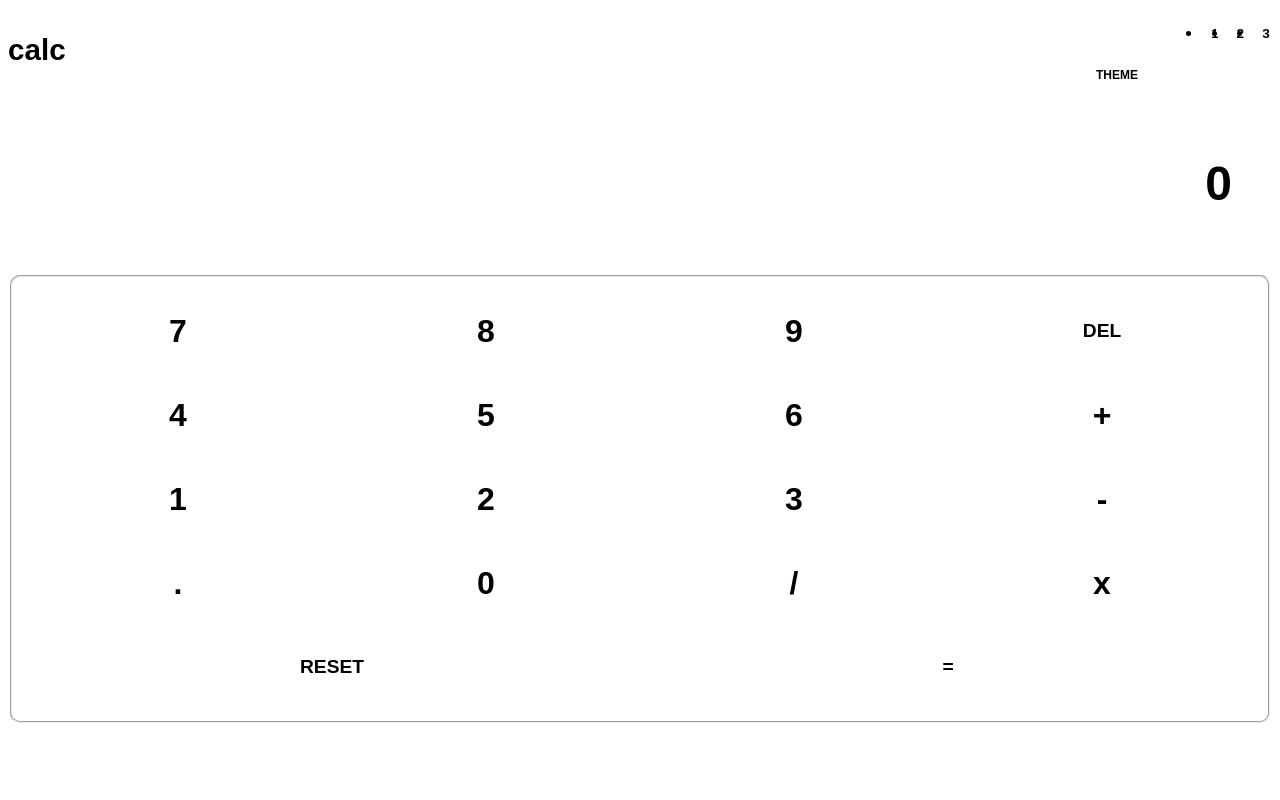
Test: Calculator › can perform basic division
This screenshot has width=1280, height=800.
Click the button "2" at (486, 499), box x1=344 y1=469 x2=628 y2=529
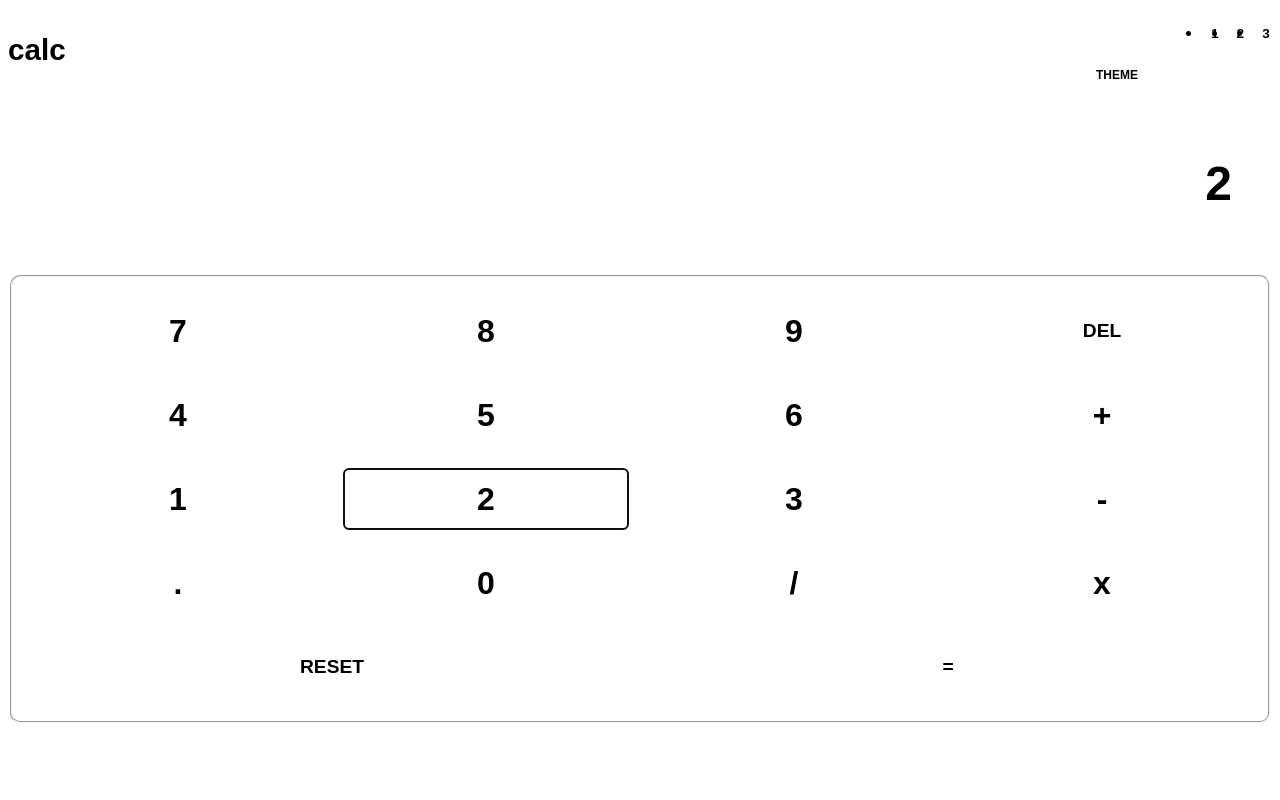
Click the button "/" at (794, 583), box x1=652 y1=553 x2=936 y2=613
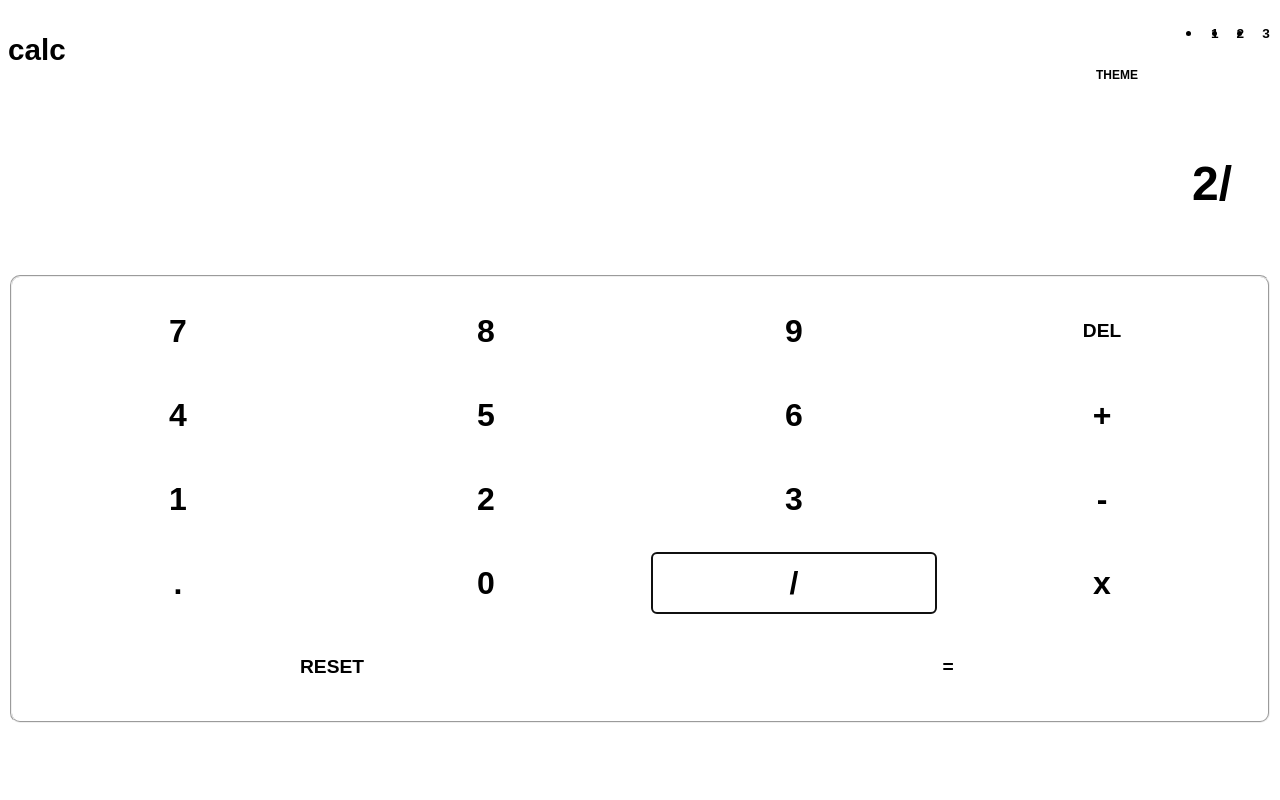
Click the button "2" at (486, 499), box x1=344 y1=469 x2=628 y2=529
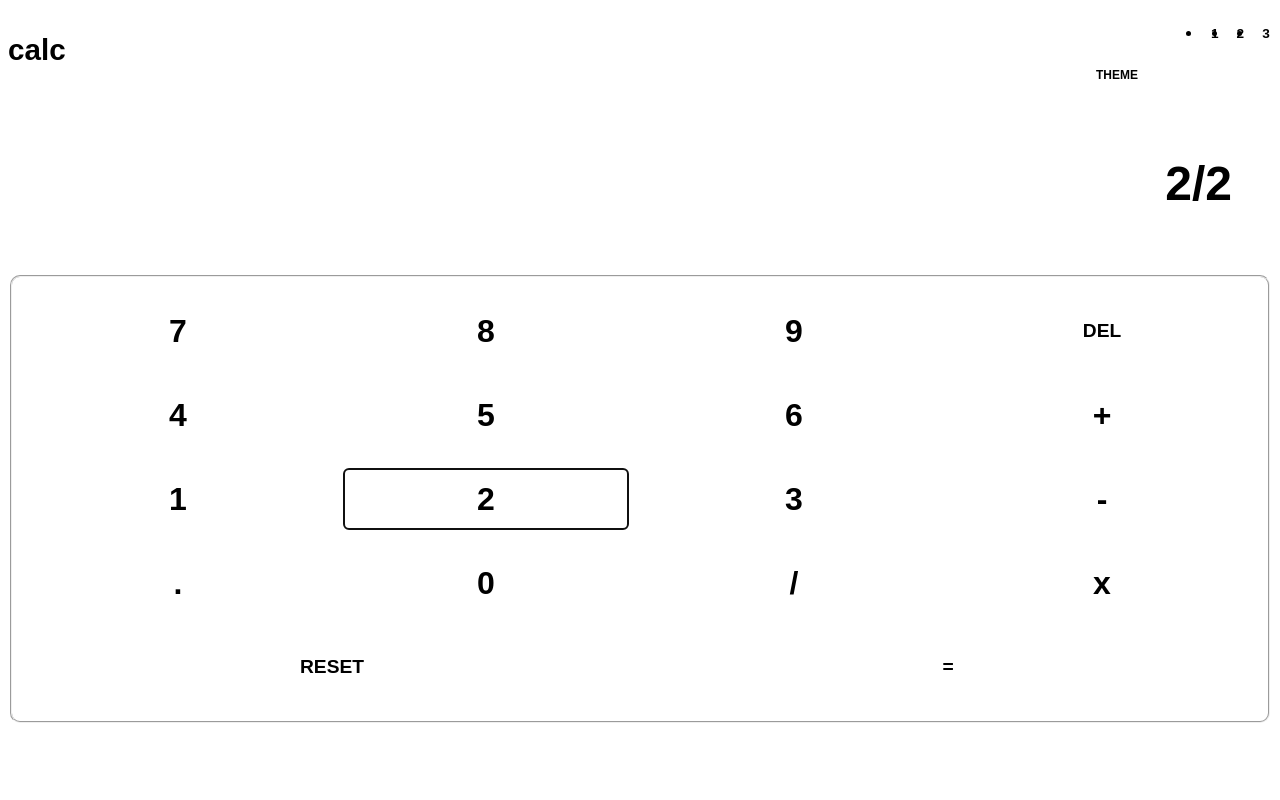
Click the button "=" at (948, 667), box x1=652 y1=637 x2=1244 y2=697
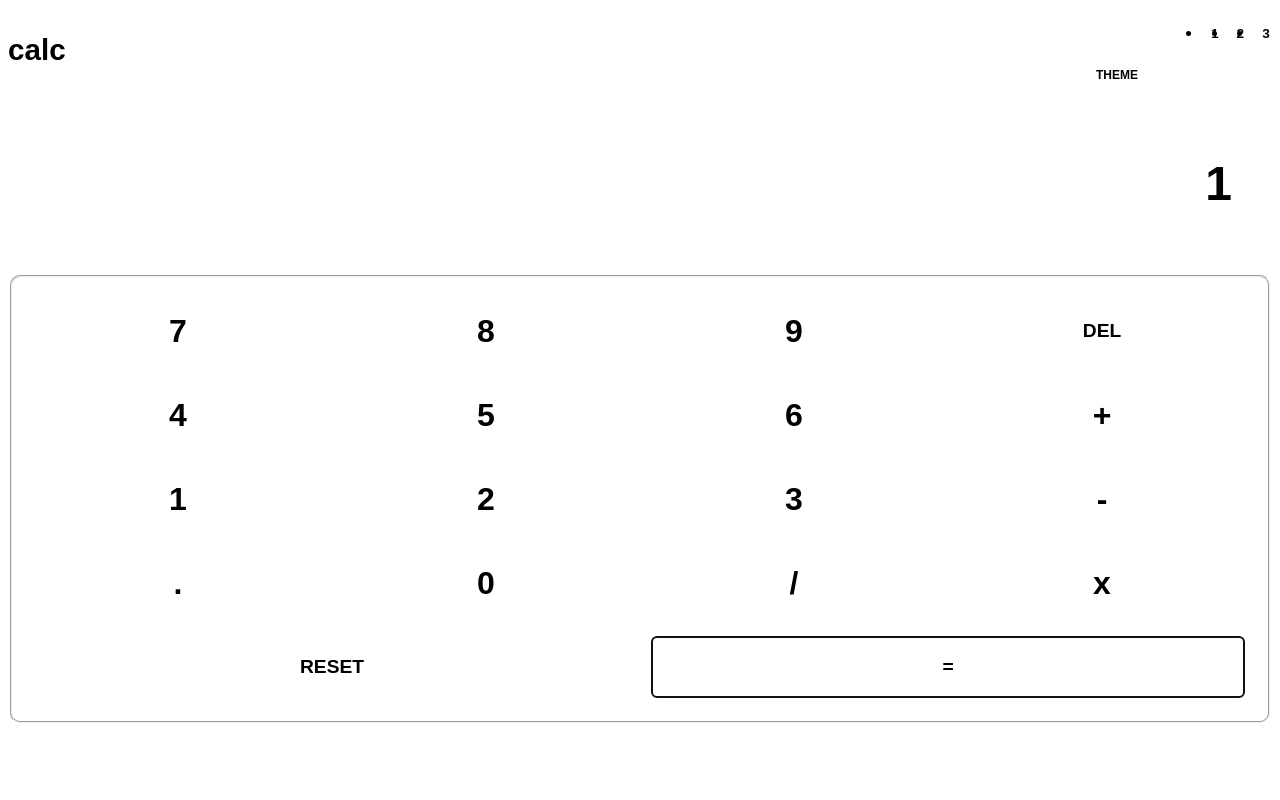
Result: the text with test id "display" reads "1" at x1=1205 y1=157 x2=1232 y2=210
